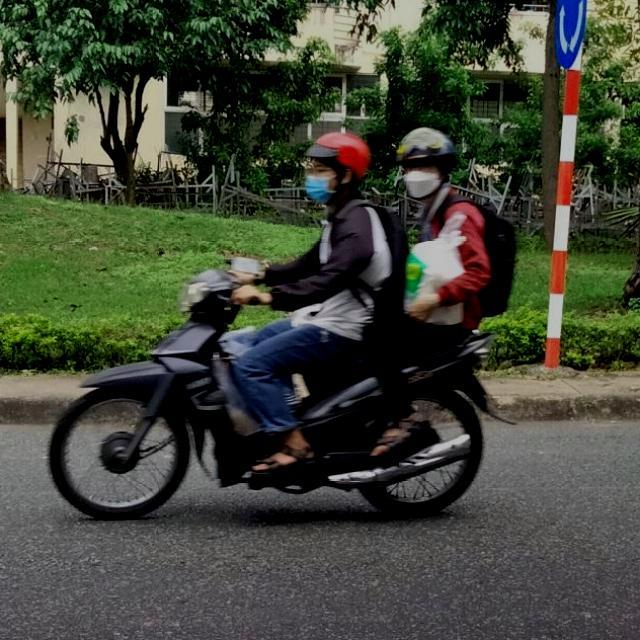Helmet: (304, 131, 371, 205), (398, 126, 460, 200)
